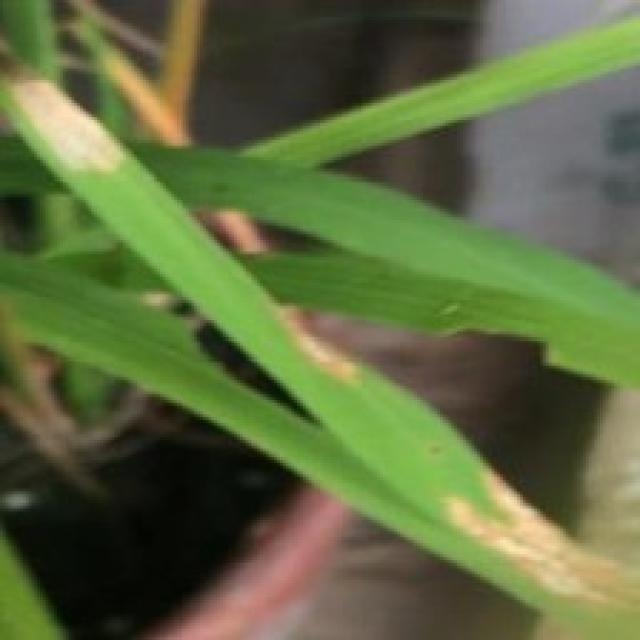Unhealthy: (444, 465, 640, 613), (0, 16, 127, 185), (98, 47, 196, 143), (278, 303, 364, 385), (214, 212, 276, 253)
